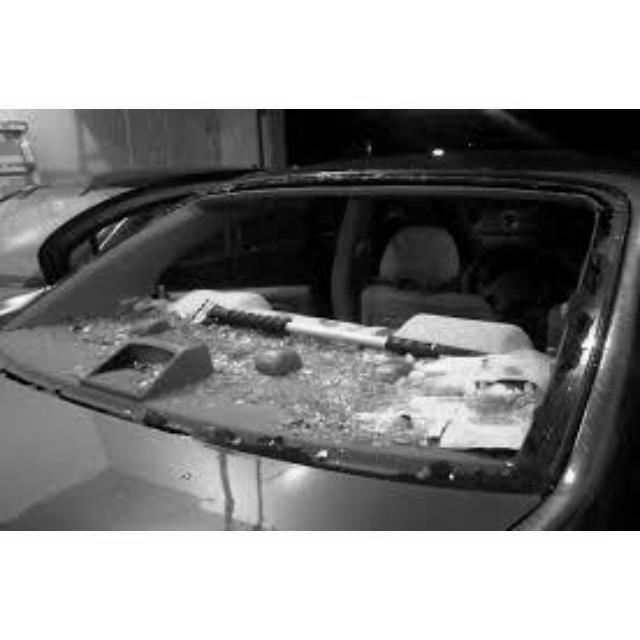Rear-windscreen-Damage: (68, 156, 633, 480)
